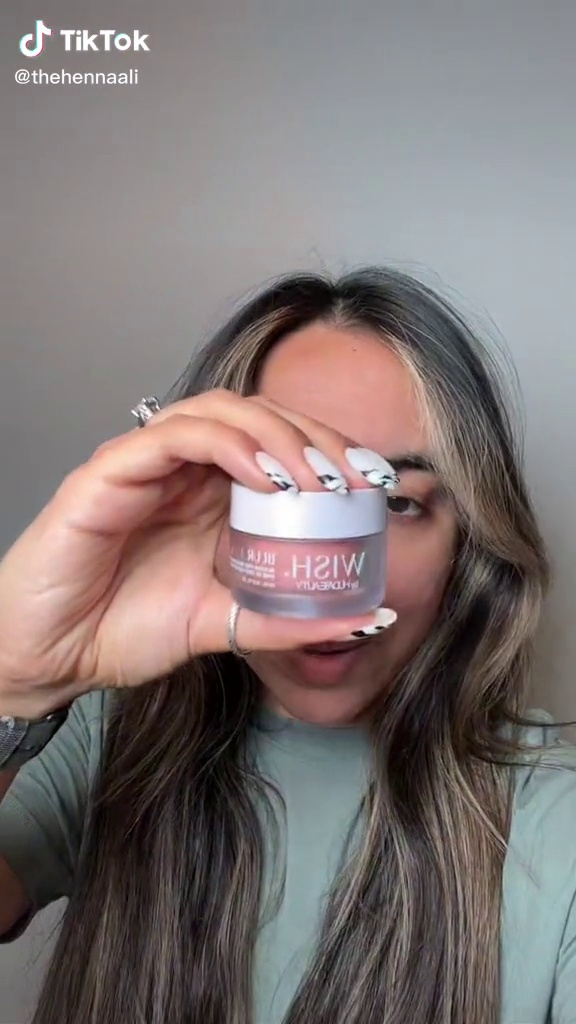train' :'yolo_data/train/images',: (204, 461, 393, 621)
